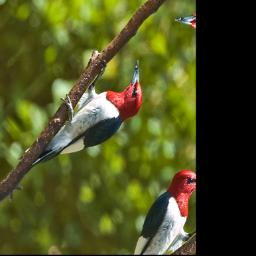Woodpecker: (14, 34, 158, 208)
